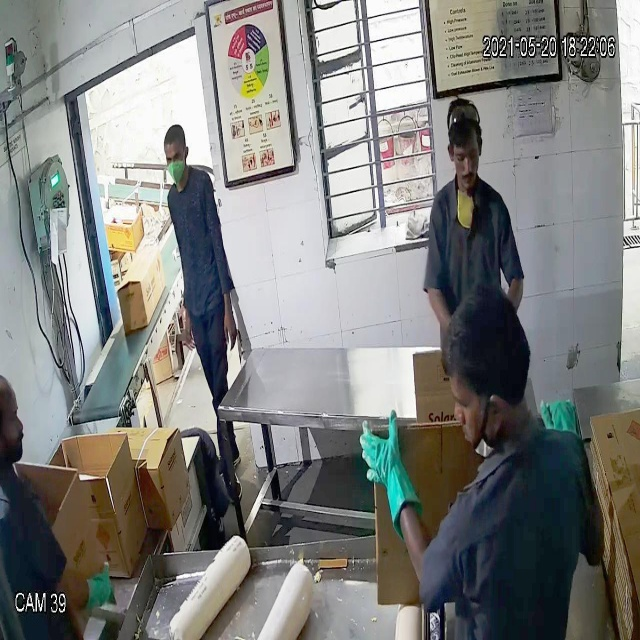Sin_gafas: (442, 137, 486, 169)
